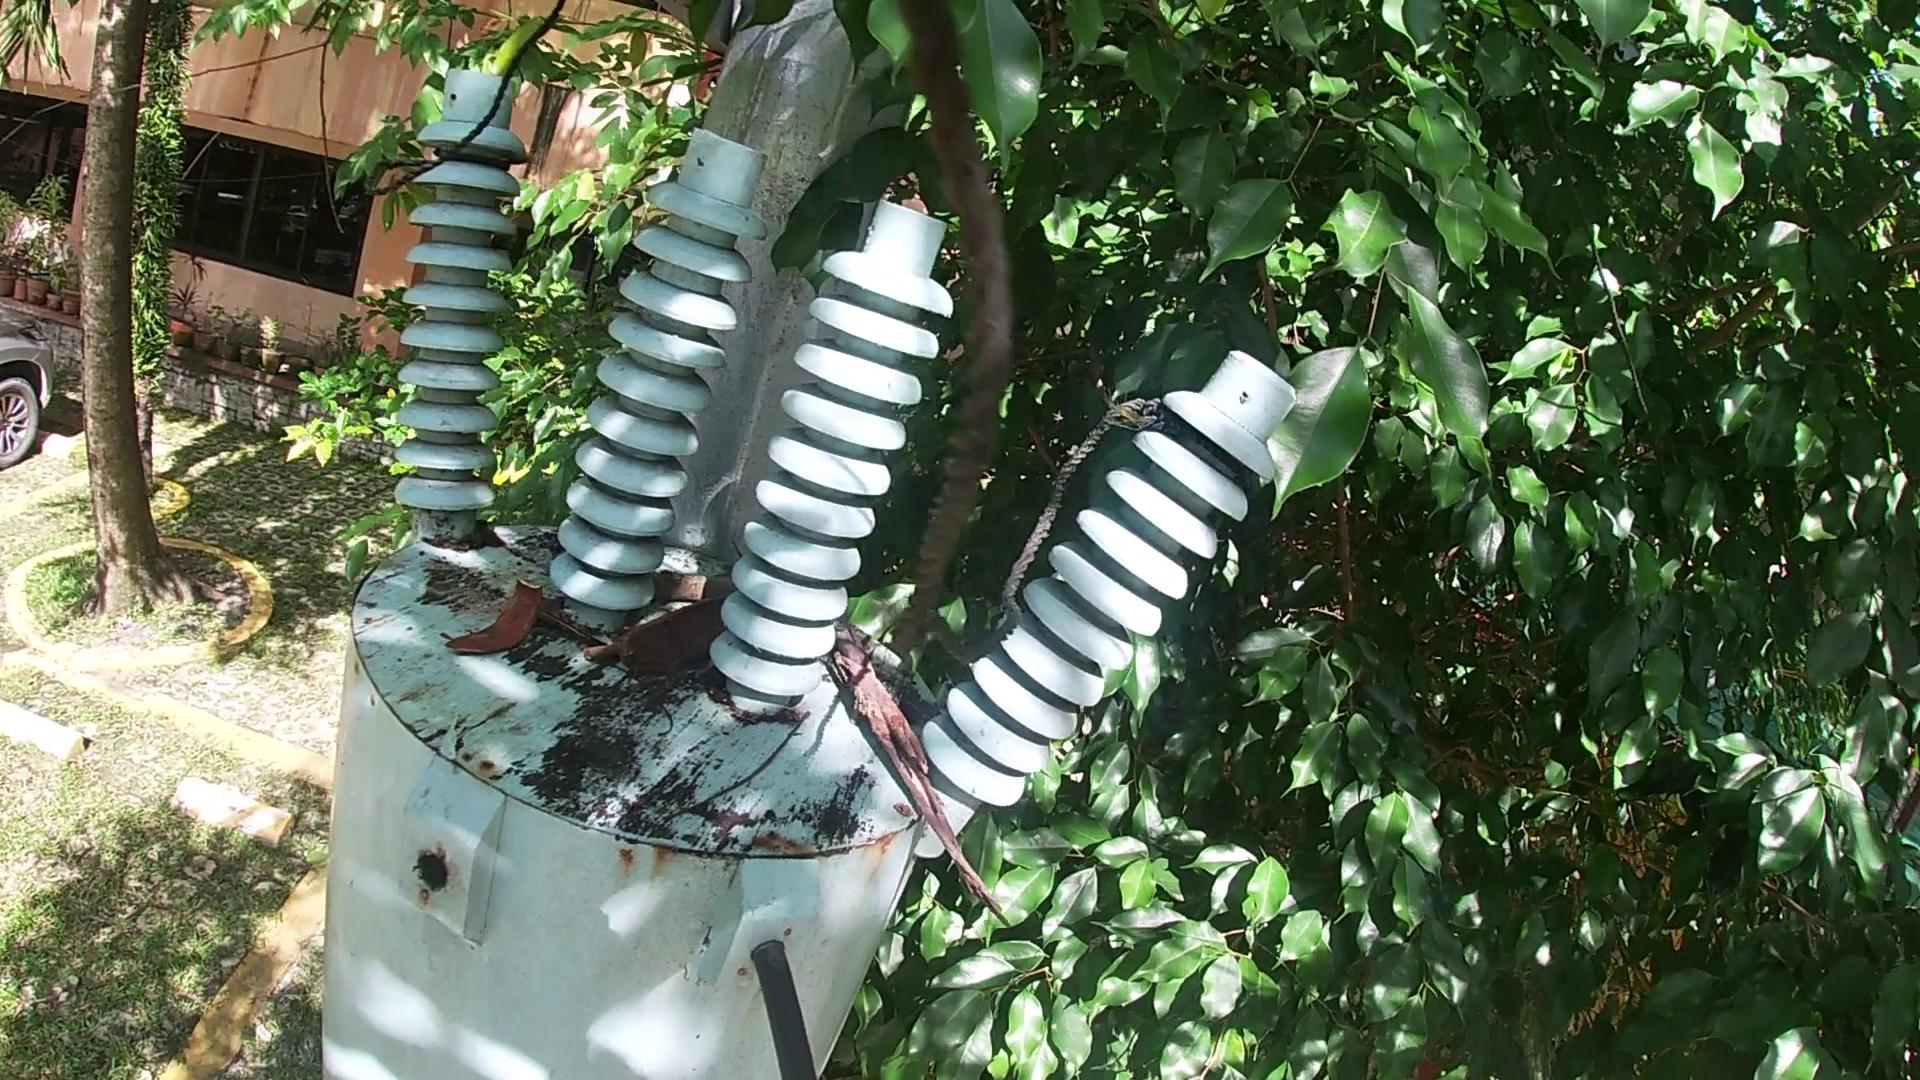leaf: (550, 617, 611, 640)
mahogany fruit: (455, 585, 545, 671), (621, 607, 723, 680)
tree branch: (837, 636, 1007, 942), (650, 709, 823, 835), (630, 684, 682, 741), (651, 583, 733, 603), (579, 646, 616, 678)
